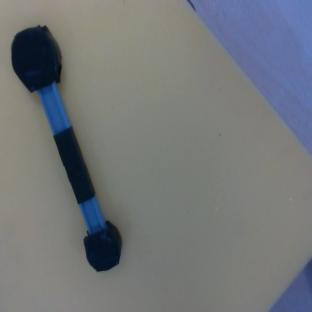part_3_bad: (3, 21, 129, 278)
